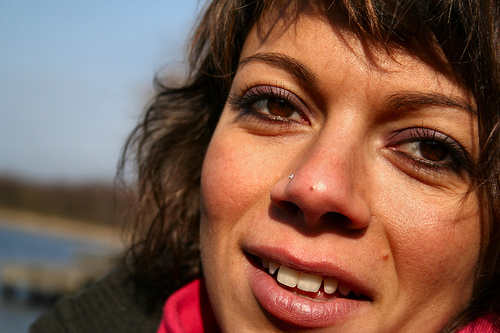without_mask: (206, 7, 491, 333)
